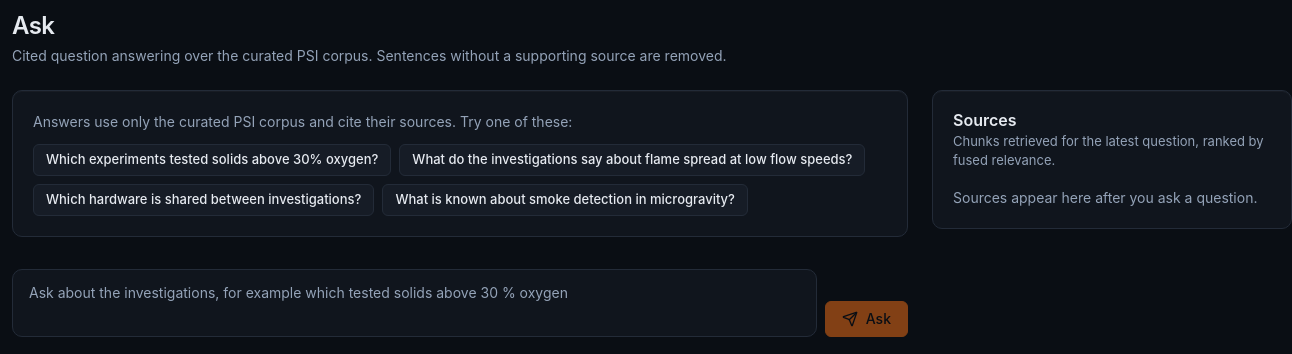
Test: Ask page /ask (doc 10 section 5, CF-09) › FR-11: an error event shows the message and keeps the retrieved sources visible
Replace the text in the text box with test id "ask-input" with "Which experiments tested solids above 30% oxygen?" at (414, 303), box left=12, top=269, right=817, bottom=337
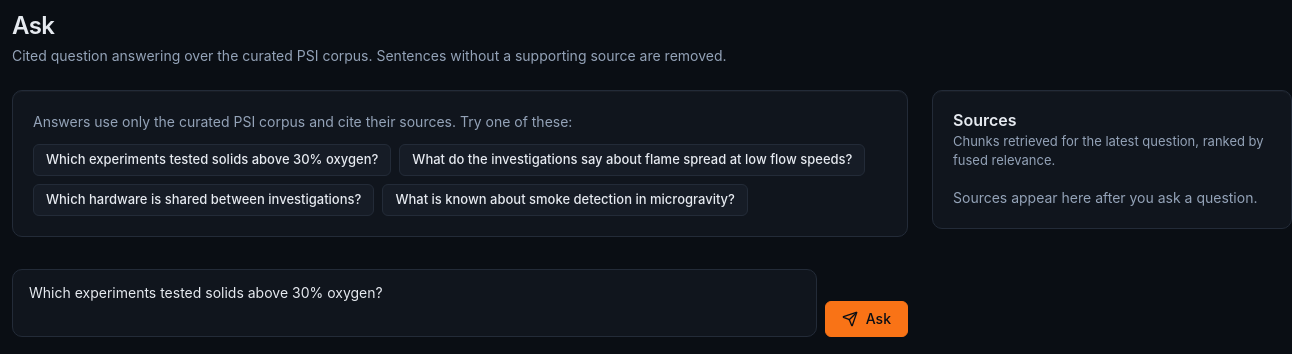
Click the button "Ask" at (866, 319), box left=825, top=301, right=908, bottom=337
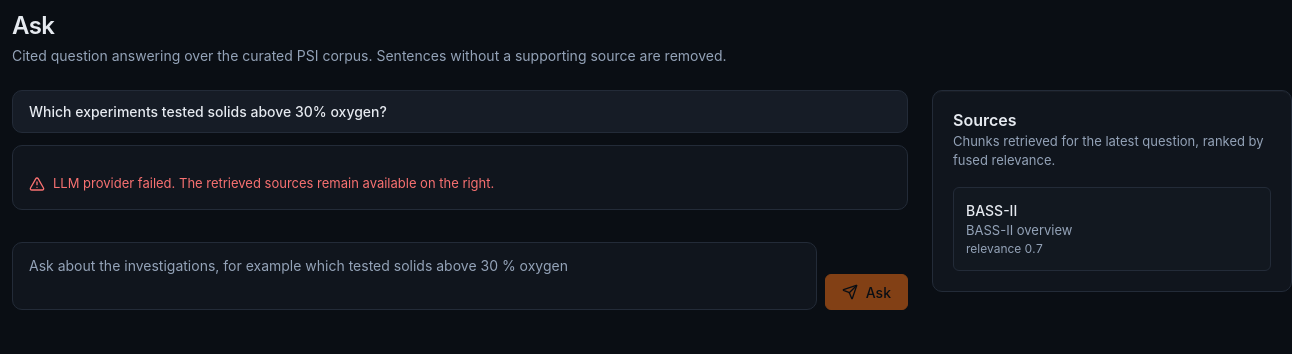
Expected: the message shows "LLM provider failed.", left=53, top=175, right=175, bottom=191
Expected: the text "BASS-II overview" is shown, left=966, top=222, right=1072, bottom=238
